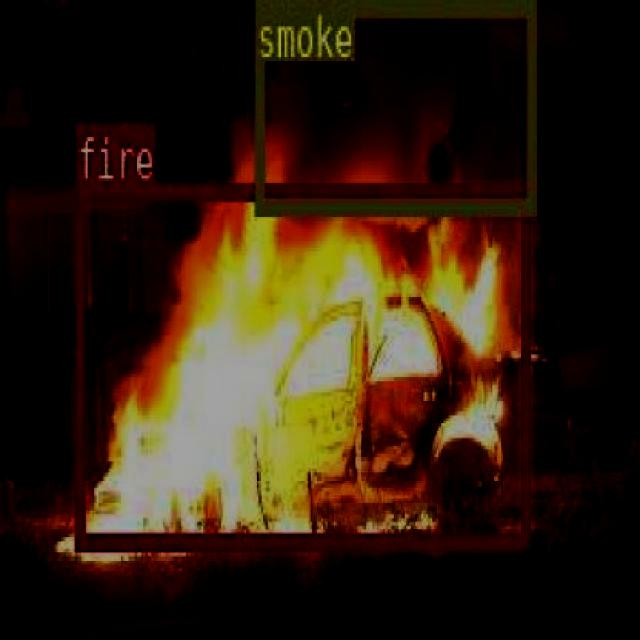fire: (73, 182, 527, 546)
smoke: (253, 0, 535, 214)
